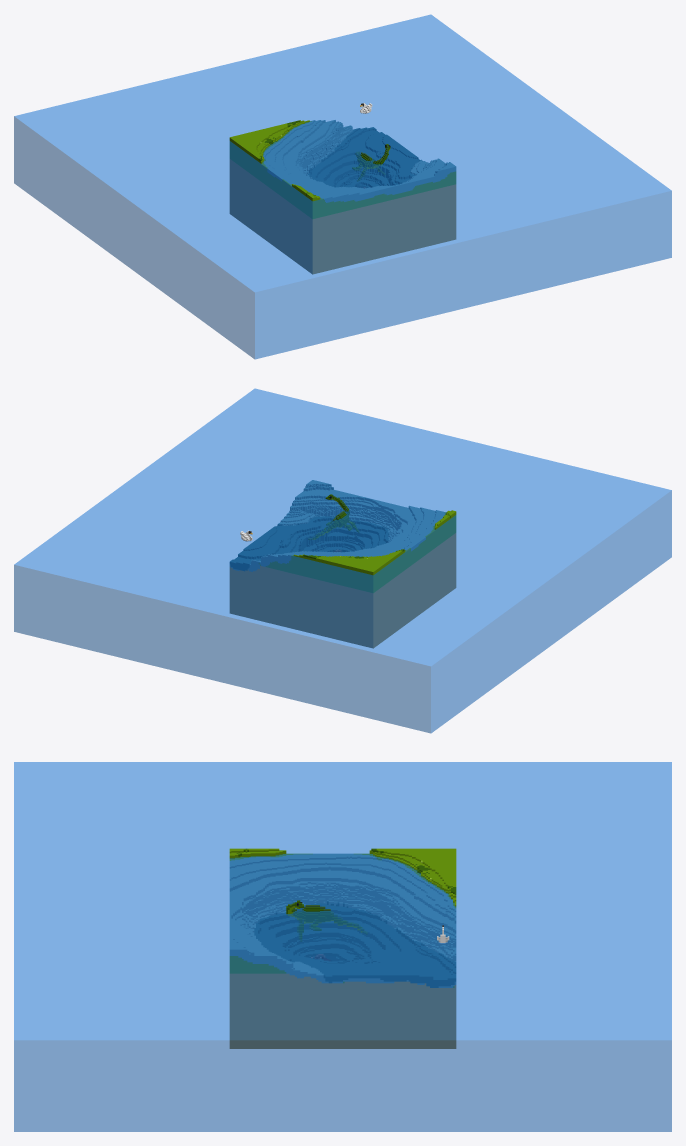
3 views of the same model, one above another, from view 1: azimuth 30°, elevation 25°; view 2: azimuth 150°, elevation 25°; view 3: azimuth 270°, elevation 25° (orthographic). The views are drawn at different scales.
Parts seen in each view (by area): view 1: water.003, 3C.003; view 2: water.003, 3C.003; view 3: water.003, 3C.003.
Part boxes in pixels (bbox=[...]): water.003: bbox=[14, 14, 671, 359]; 3C.003: bbox=[229, 103, 456, 274]; water.003: bbox=[14, 388, 671, 733]; 3C.003: bbox=[229, 480, 456, 648]; water.003: bbox=[14, 762, 671, 1131]; 3C.003: bbox=[229, 848, 456, 1048].
Size of the model in its own units: 37.12 by 7.4 by 37.12.
Materials: 2 (1 with a texture image).
